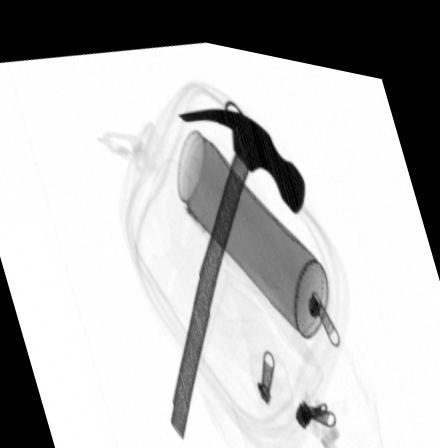Hammer: (168, 98, 306, 429)
